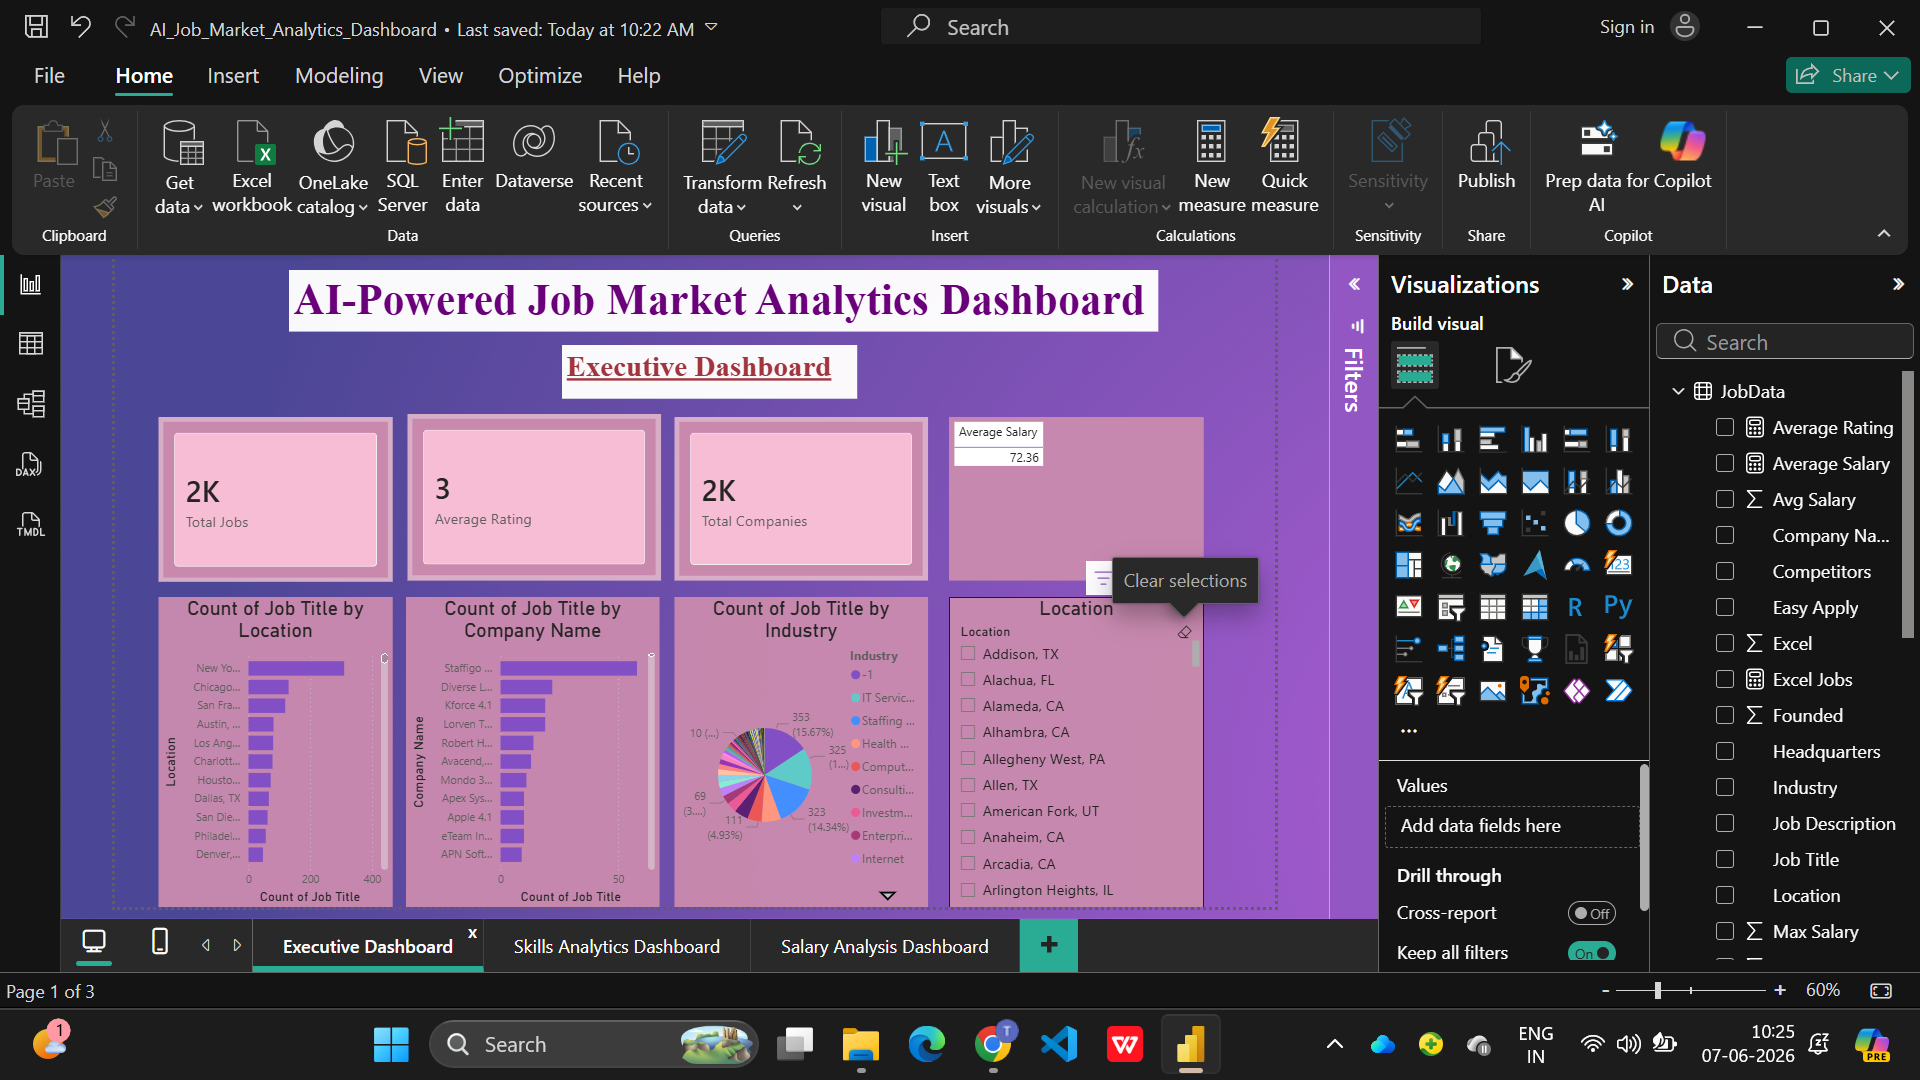

What the dashboard file says about the page in this screenshot:
{"tool":"powerbi","page":{"name":"Executive Dashboard","canvas":[1280,720],"ordinal":0},"visuals":[{"type":"cardVisual","fields":{"Data":["JobData.Total Jobs"]},"box":[48,178.9,258.4,182.2],"z":0},{"type":"cardVisual","fields":{"Data":["JobData.Average Rating"]},"box":[323,175.6,279.9,183.9],"z":1000},{"type":"cardVisual","fields":{"Data":["JobData.Total Companies"]},"box":[617.9,178.9,279.9,180.6],"z":2000},{"type":"tableEx","fields":{"Values":["JobData.Average Salary"]},"box":[921,178.9,281.6,180.6],"z":3000},{"type":"clusteredBarChart","fields":{"Category":["JobData.Location"],"Y":["CountNonNull(JobData.Job Title)"]},"box":[48,377.7,258.4,342.9],"z":4000},{"type":"clusteredBarChart","fields":{"Category":["JobData.Company Name"],"Y":["CountNonNull(JobData.Job Title)"]},"box":[321.4,377.7,279.9,342.9],"z":5000},{"type":"pieChart","fields":{"Category":["JobData.Industry"],"Y":["CountNonNull(JobData.Job Title)"]},"box":[617.9,377.7,279.9,342.9],"z":6000},{"type":"slicer","title":"Location","fields":{"Values":["JobData.Location"]},"box":[921,377.7,281.6,342.9],"z":7000},{"type":"textbox","box":[192.8,17,960,68],"z":7001},{"type":"textbox","box":[493.6,99.4,326.3,59.6],"z":7003}]}

Visuals, with their boxes on the page's 1280x720 design canvas (x1, y1, x2, y2). These are canvas units, not pixel positions in the 1920x1080 screenshot, which may show the page scaled, cropped or inside an application window:
cardVisual - JobData.Total Jobs: BBox(48, 179, 306, 361)
cardVisual - JobData.Average Rating: BBox(323, 176, 603, 360)
cardVisual - JobData.Total Companies: BBox(618, 179, 898, 360)
tableEx - JobData.Average Salary: BBox(921, 179, 1203, 360)
clusteredBarChart - JobData.Location x CountNonNull(JobData.Job Title): BBox(48, 378, 306, 721)
clusteredBarChart - JobData.Company Name x CountNonNull(JobData.Job Title): BBox(321, 378, 601, 721)
pieChart - JobData.Industry x CountNonNull(JobData.Job Title): BBox(618, 378, 898, 721)
"Location" slicer: BBox(921, 378, 1203, 721)
textbox: BBox(193, 17, 1153, 85)
textbox: BBox(494, 99, 820, 159)
